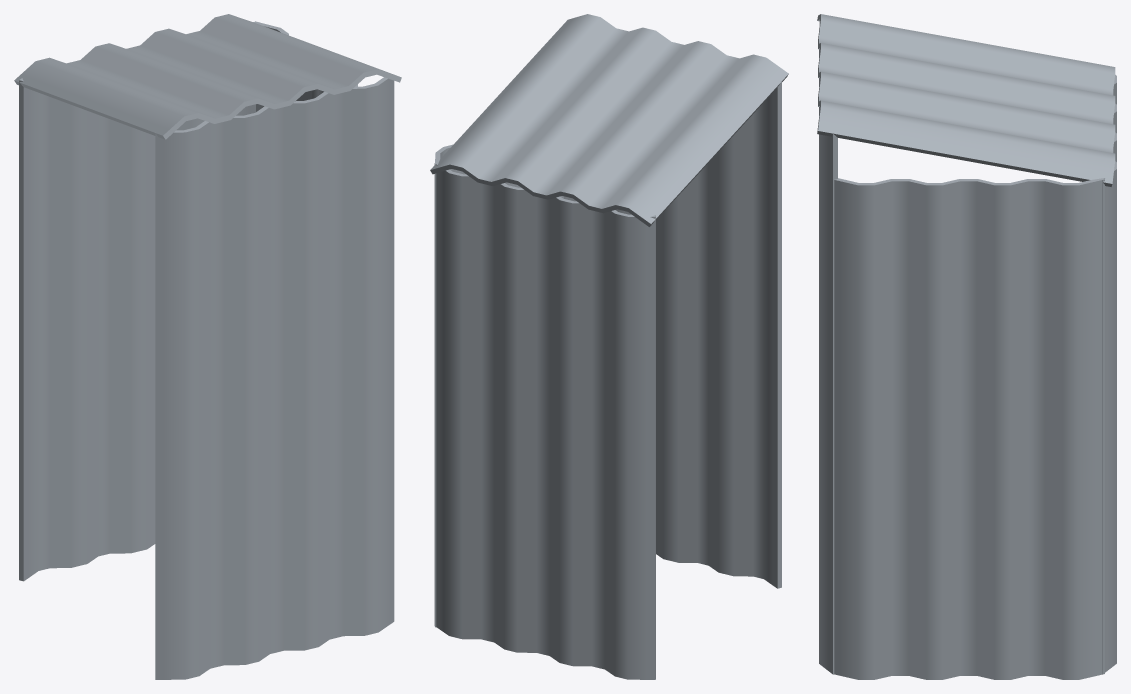
Rendered from SM_Cabane.FBX.
3 views of the same model, side by side, from view 1: azimuth 30°, elevation 25°; view 2: azimuth 150°, elevation 25°; view 3: azimuth 270°, elevation 25° (orthographic). The views are drawn at different scales.
Visible parts, largest first — view 1: Box004; view 2: Box004; view 3: Box004.
Boxes of the visible parts, bbox=[...] form: Box004: bbox=[14, 14, 401, 679]; Box004: bbox=[430, 14, 788, 679]; Box004: bbox=[817, 14, 1116, 679].
Bounding box in the file's own units: 105 × 225 × 110.
Materials: 1 (1 with a texture image).
